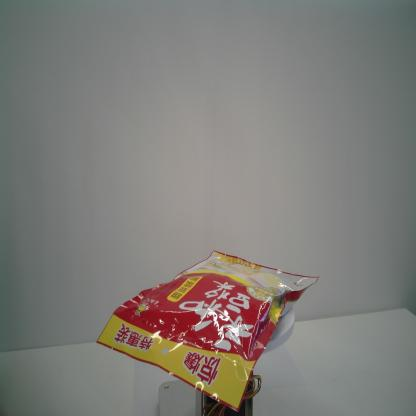Instant Drink: (95, 249, 322, 412)
